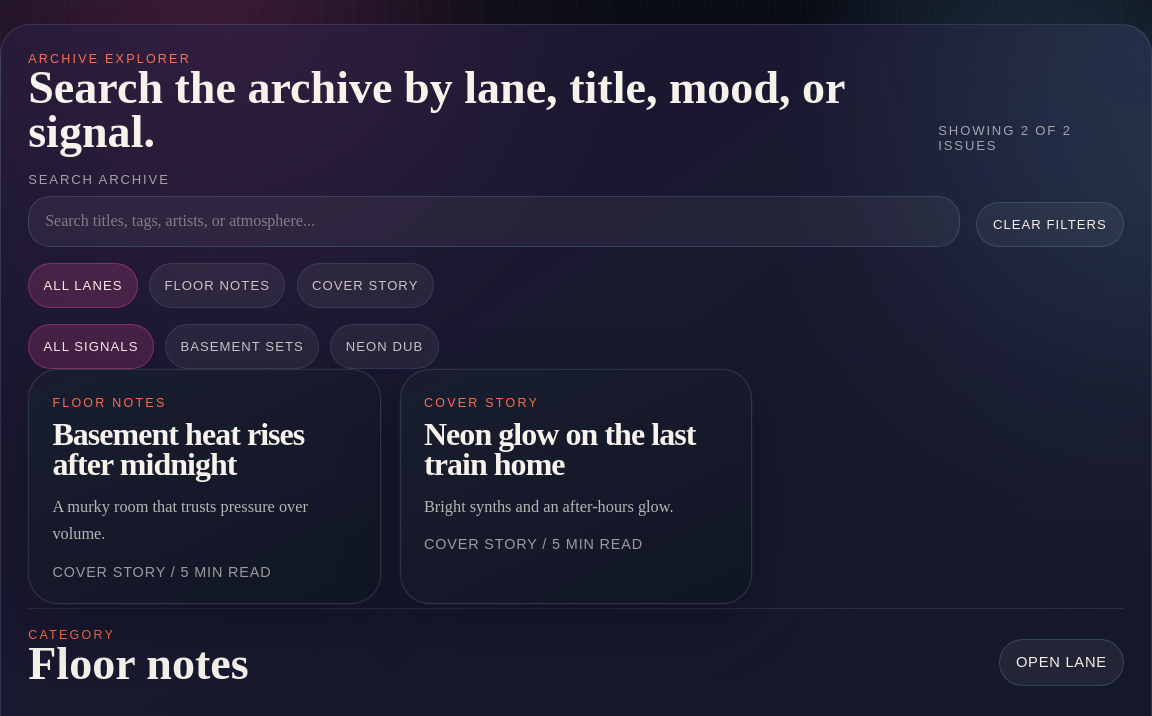
Test: ArchiveExplorer › filters posts by lane and clears filters on reset
Click the button "Cover story".
click(365, 285)  # box x1=297 y1=263 x2=434 y2=308
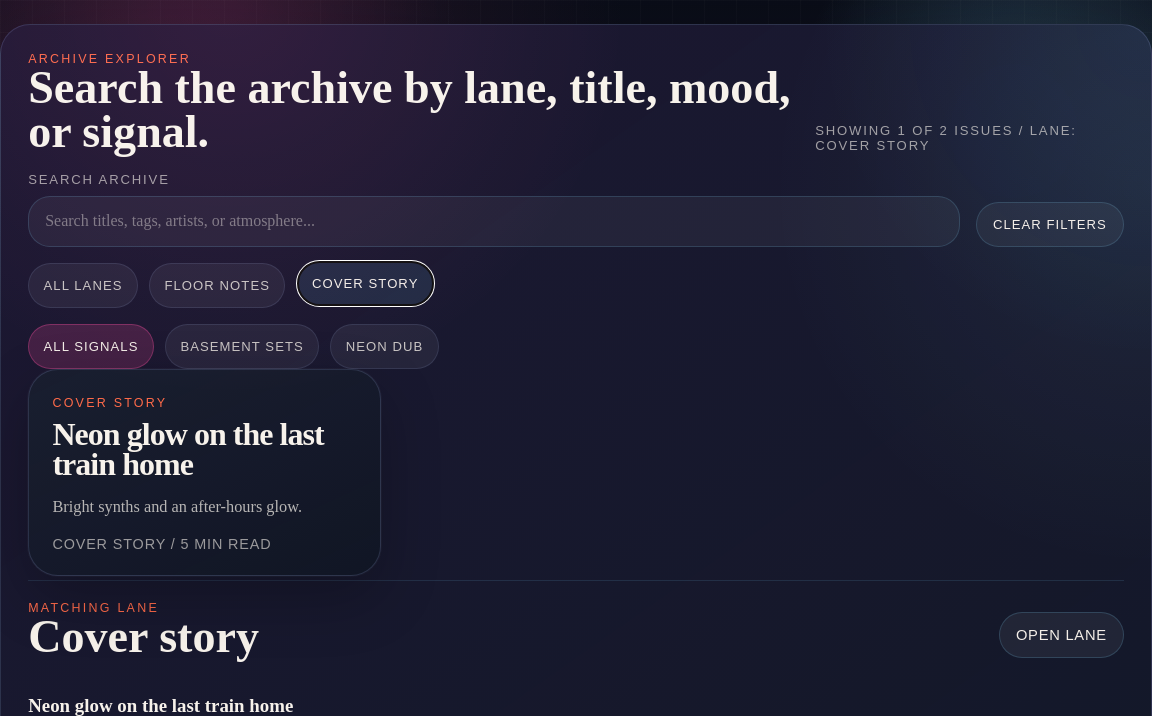
Expected: the heading "Neon glow on the last train home" is shown, x1=52 y1=419 x2=356 y2=479
Now the link "Basement heat rises after midnight" is gone
Click the button "Clear filters".
click(1050, 225)  # box x1=976 y1=202 x2=1124 y2=247
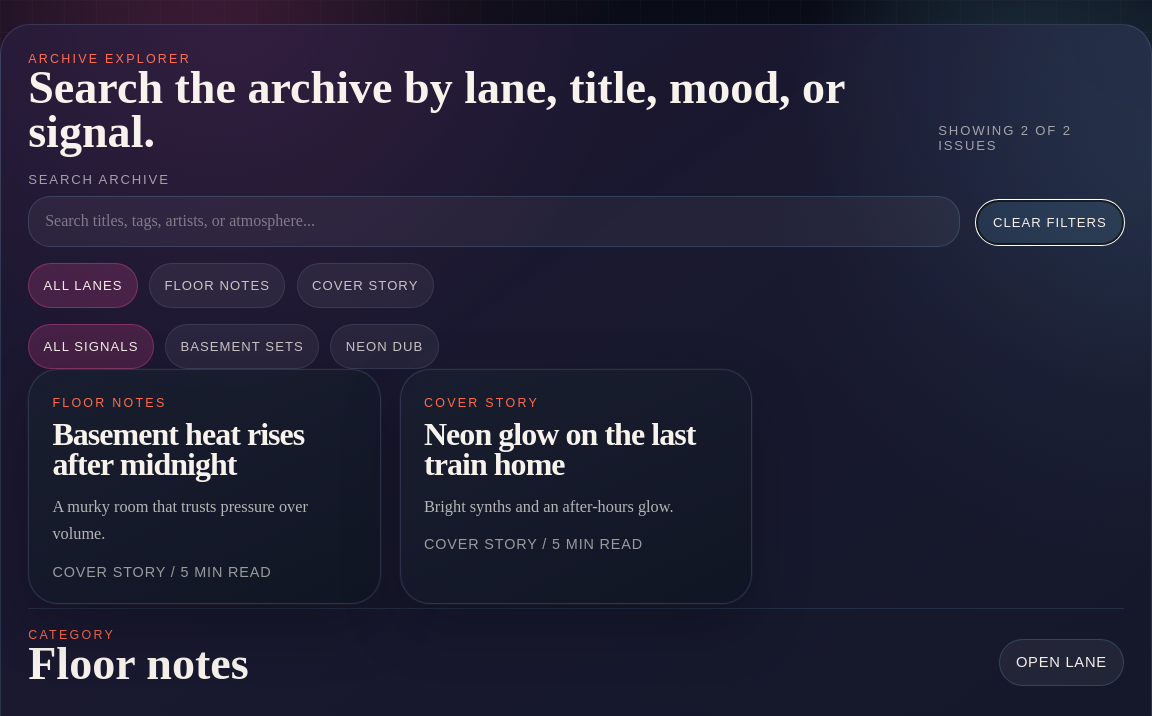
Now the text "Showing 2 of 2 issues" is shown, box x1=938 y1=123 x2=1072 y2=153
